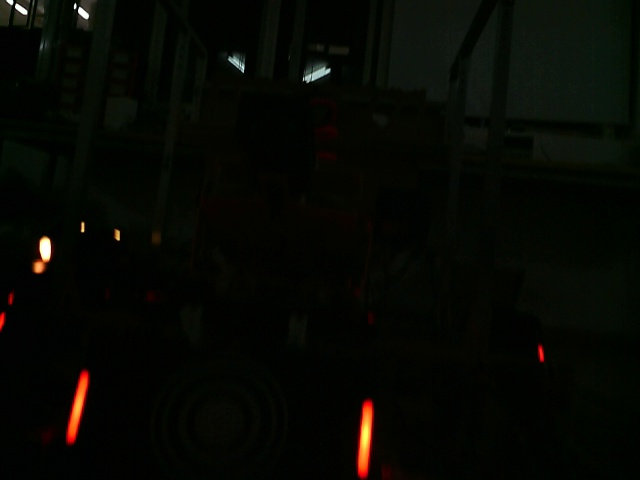lamp: (347, 394, 382, 480), (64, 367, 88, 442)
